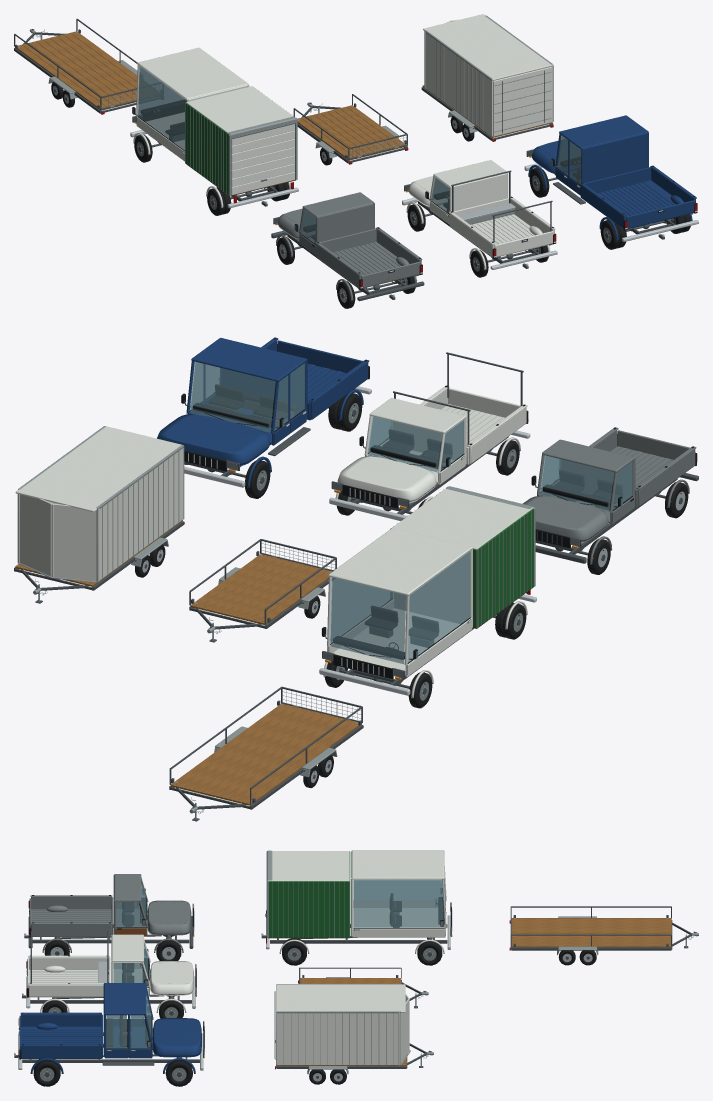
The model's file is 25_TrucksAndTrailers.gltf.
3 views of the same model, one above another, from view 1: azimuth 30°, elevation 25°; view 2: azimuth 150°, elevation 25°; view 3: azimuth 270°, elevation 25° (orthographic). The views are drawn at different scales.
Parts seen in each view (by area): view 1: LandscapingTruck__Body, HeavyDutyPickup__Body, LandscapeTrailer__Body, WorkPickup__Body, RustyPickup__Body, EquipmentTrailer__Body, UtilityTrailer__Body, LandscapingTruck__RearDoor, LandscapeTrailer__RampDoor, LandscapingTruck__DriverDoorGlass, LandscapingTruck__Glass_Windshield, HeavyDutyPickup__Tailgate (+6 smaller); view 2: LandscapingTruck__Body, LandscapeTrailer__Body, HeavyDutyPickup__Body, WorkPickup__Body, RustyPickup__Body, EquipmentTrailer__Body, UtilityTrailer__Body, LandscapingTruck__Glass_Windshield, LandscapingTruck__DriverDoorGlass, HeavyDutyPickup__Glass_Windshield, RustyPickup__Glass_Windshield, WorkPickup__Glass_Windshield (+9 smaller); view 3: LandscapingTruck__Body, LandscapeTrailer__Body, HeavyDutyPickup__Body, RustyPickup__Body, WorkPickup__Body, EquipmentTrailer__Body, LandscapingTruck, LandscapingTruck__DriverDoorGlass, HeavyDutyPickup, UtilityTrailer__Body, RustyPickup, HeavyDutyPickup__Wheel_RR (+8 smaller).
Boxes of the visible parts, x1,y1,x2,y2 form: LandscapingTruck__Body: [130, 47, 298, 208]; HeavyDutyPickup__Body: [524, 115, 698, 241]; LandscapeTrailer__Body: [421, 14, 553, 141]; WorkPickup__Body: [402, 160, 557, 269]; RustyPickup__Body: [271, 192, 424, 301]; EquipmentTrailer__Body: [14, 18, 139, 114]; UtilityTrailer__Body: [293, 94, 408, 164]; LandscapingTruck__RearDoor: [231, 124, 294, 195]; LandscapeTrailer__RampDoor: [493, 66, 551, 136]; LandscapingTruck__DriverDoorGlass: [132, 66, 186, 149]; LandscapingTruck__Glass_Windshield: [139, 68, 182, 114]; HeavyDutyPickup__Tailgate: [626, 200, 694, 228]; LandscapingTruck__Body: [319, 486, 536, 698]; LandscapeTrailer__Body: [14, 426, 184, 603]; HeavyDutyPickup__Body: [157, 337, 371, 488]; WorkPickup__Body: [329, 352, 530, 520]; RustyPickup__Body: [522, 427, 698, 564]; EquipmentTrailer__Body: [169, 687, 363, 821]; UtilityTrailer__Body: [189, 539, 336, 642]; LandscapingTruck__Glass_Windshield: [330, 577, 405, 663]; LandscapingTruck__DriverDoorGlass: [408, 551, 470, 662]; HeavyDutyPickup__Glass_Windshield: [190, 362, 275, 432]; RustyPickup__Glass_Windshield: [540, 455, 614, 511]; WorkPickup__Glass_Windshield: [368, 416, 441, 471]; LandscapingTruck__Body: [261, 850, 452, 953]; LandscapeTrailer__Body: [275, 984, 433, 1074]; HeavyDutyPickup__Body: [14, 983, 204, 1073]; RustyPickup__Body: [24, 874, 194, 952]; WorkPickup__Body: [22, 931, 196, 1012]; EquipmentTrailer__Body: [509, 906, 698, 954]; LandscapingTruck: [353, 880, 444, 927]; LandscapingTruck__DriverDoorGlass: [354, 880, 442, 899]; HeavyDutyPickup: [106, 1015, 150, 1048]; UtilityTrailer__Body: [298, 967, 428, 1008]; RustyPickup: [116, 902, 145, 926]; HeavyDutyPickup__Wheel_RR: [33, 1059, 60, 1086].
Bounding box in the file's own units: 9.72 × 2.53 × 18.23.
3 materials, 1 textured.
